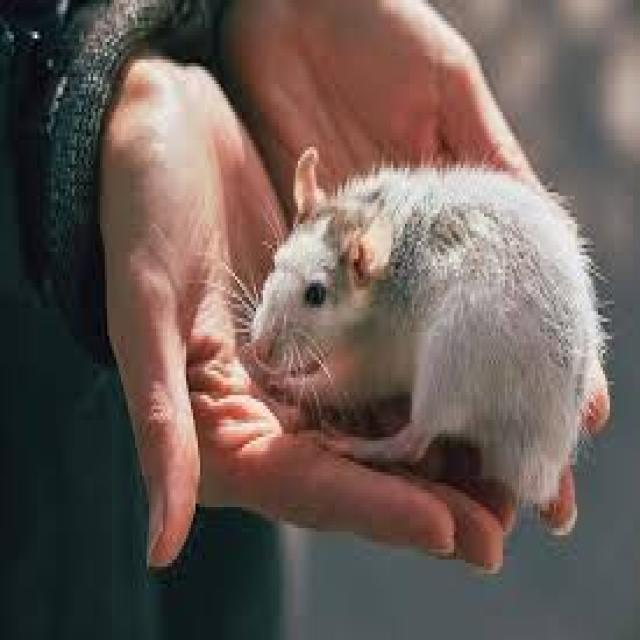Rat: (234, 111, 616, 533), (274, 104, 596, 508)
